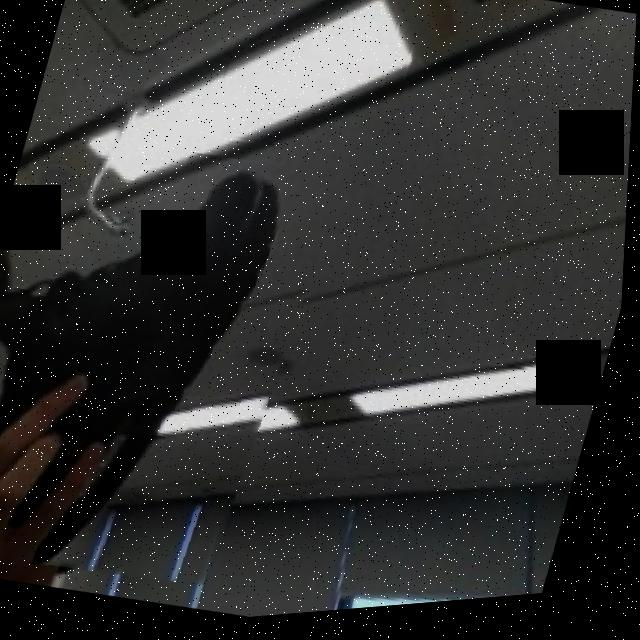shoe: (0, 109, 352, 617)
